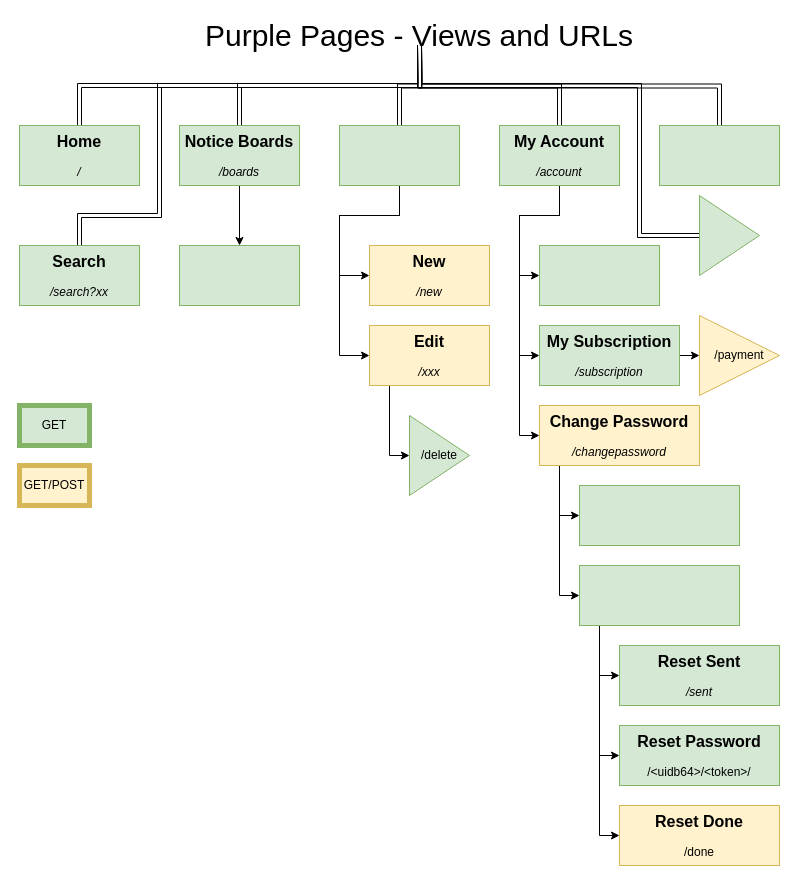
The diagram is 797 pixels wide and 883 high, and some of its shapes have lost their labels. The centre of each missing label's shape, as x and y in pixels:
/logout: [729,235]
Done /done: [659,515]
Login /login: [719,155]
My Ads /ads: [399,155]
Notice Board /xx: [239,275]
Overview /: [599,275]
Reset Request /reset: [659,595]
